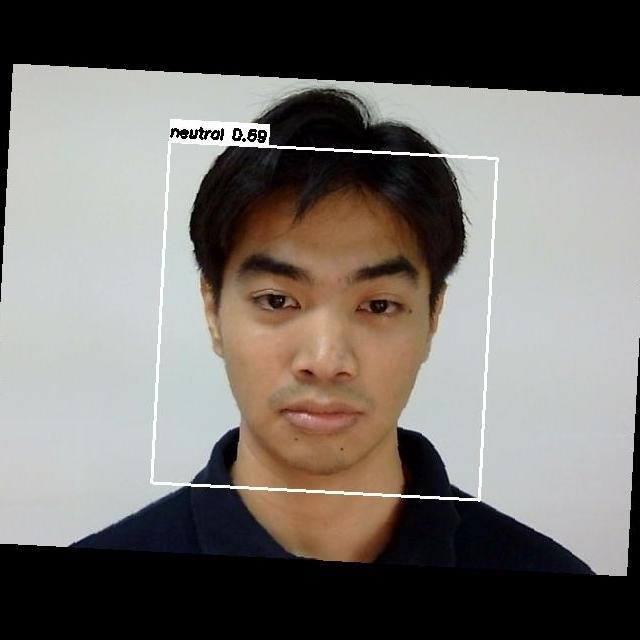Fear: (218, 233, 429, 450)
